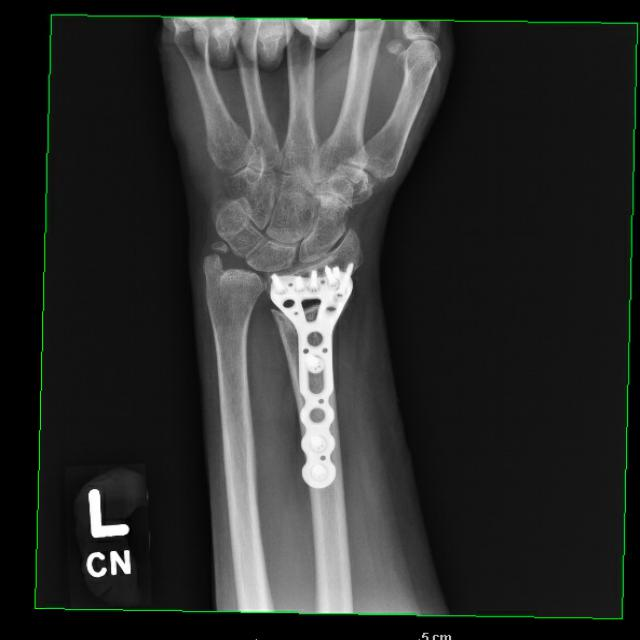x-ray: (257, 260, 372, 492)
